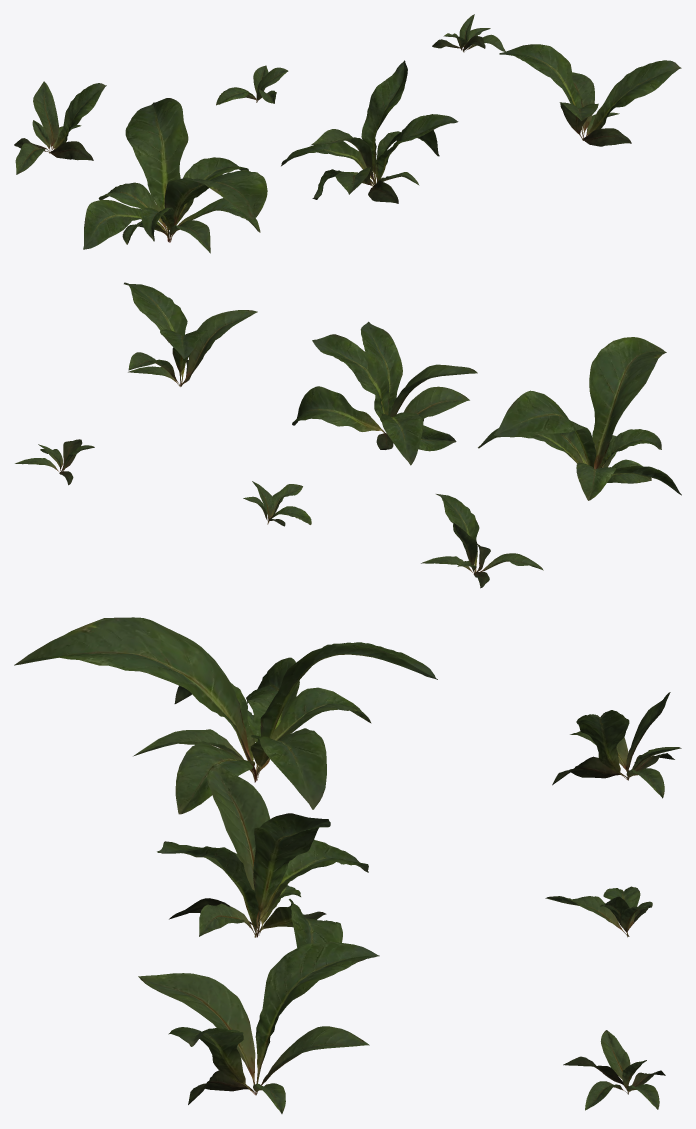
The model's file is anthurium_botany_01.glb.
3 views of the same model, one above another, from view 1: azimuth 30°, elevation 25°; view 2: azimuth 150°, elevation 25°; view 3: azimuth 270°, elevation 25° (orthographic). The views are drawn at different scales.
Visible parts, largest first — view 1: anthurium_botany_01_a, anthurium_botany_01_b, anthurium_botany_01_c, anthurium_botany_04_d, anthurium_botany_05_e, anthurium_botany_06_f; view 2: anthurium_botany_01_a, anthurium_botany_01_b, anthurium_botany_01_c, anthurium_botany_04_d, anthurium_botany_05_e, anthurium_botany_06_f; view 3: anthurium_botany_01_a, anthurium_botany_01_b, anthurium_botany_01_c, anthurium_botany_04_d, anthurium_botany_06_f, anthurium_botany_05_e.
Part boxes in pixels (box(x1,y1,x2,y2)): anthurium_botany_01_a: box(83, 98, 267, 253); anthurium_botany_01_b: box(281, 60, 458, 203); anthurium_botany_01_c: box(499, 44, 681, 146); anthurium_botany_04_d: box(14, 81, 106, 174); anthurium_botany_05_e: box(216, 65, 288, 105); anthurium_botany_06_f: box(432, 14, 505, 52); anthurium_botany_01_a: box(478, 337, 681, 500); anthurium_botany_01_b: box(292, 321, 477, 465); anthurium_botany_01_c: box(124, 282, 257, 386); anthurium_botany_04_d: box(421, 494, 543, 588); anthurium_botany_05_e: box(243, 481, 311, 526); anthurium_botany_06_f: box(15, 439, 94, 485); anthurium_botany_01_a: box(14, 617, 437, 814); anthurium_botany_01_b: box(157, 763, 368, 947); anthurium_botany_01_c: box(138, 942, 379, 1113); anthurium_botany_04_d: box(552, 692, 681, 798); anthurium_botany_06_f: box(563, 1030, 665, 1110); anthurium_botany_05_e: box(545, 886, 652, 937).
Bounding box in the file's own units: 2.8 × 0.4996 × 1.8.
1 material, 1 textured.
